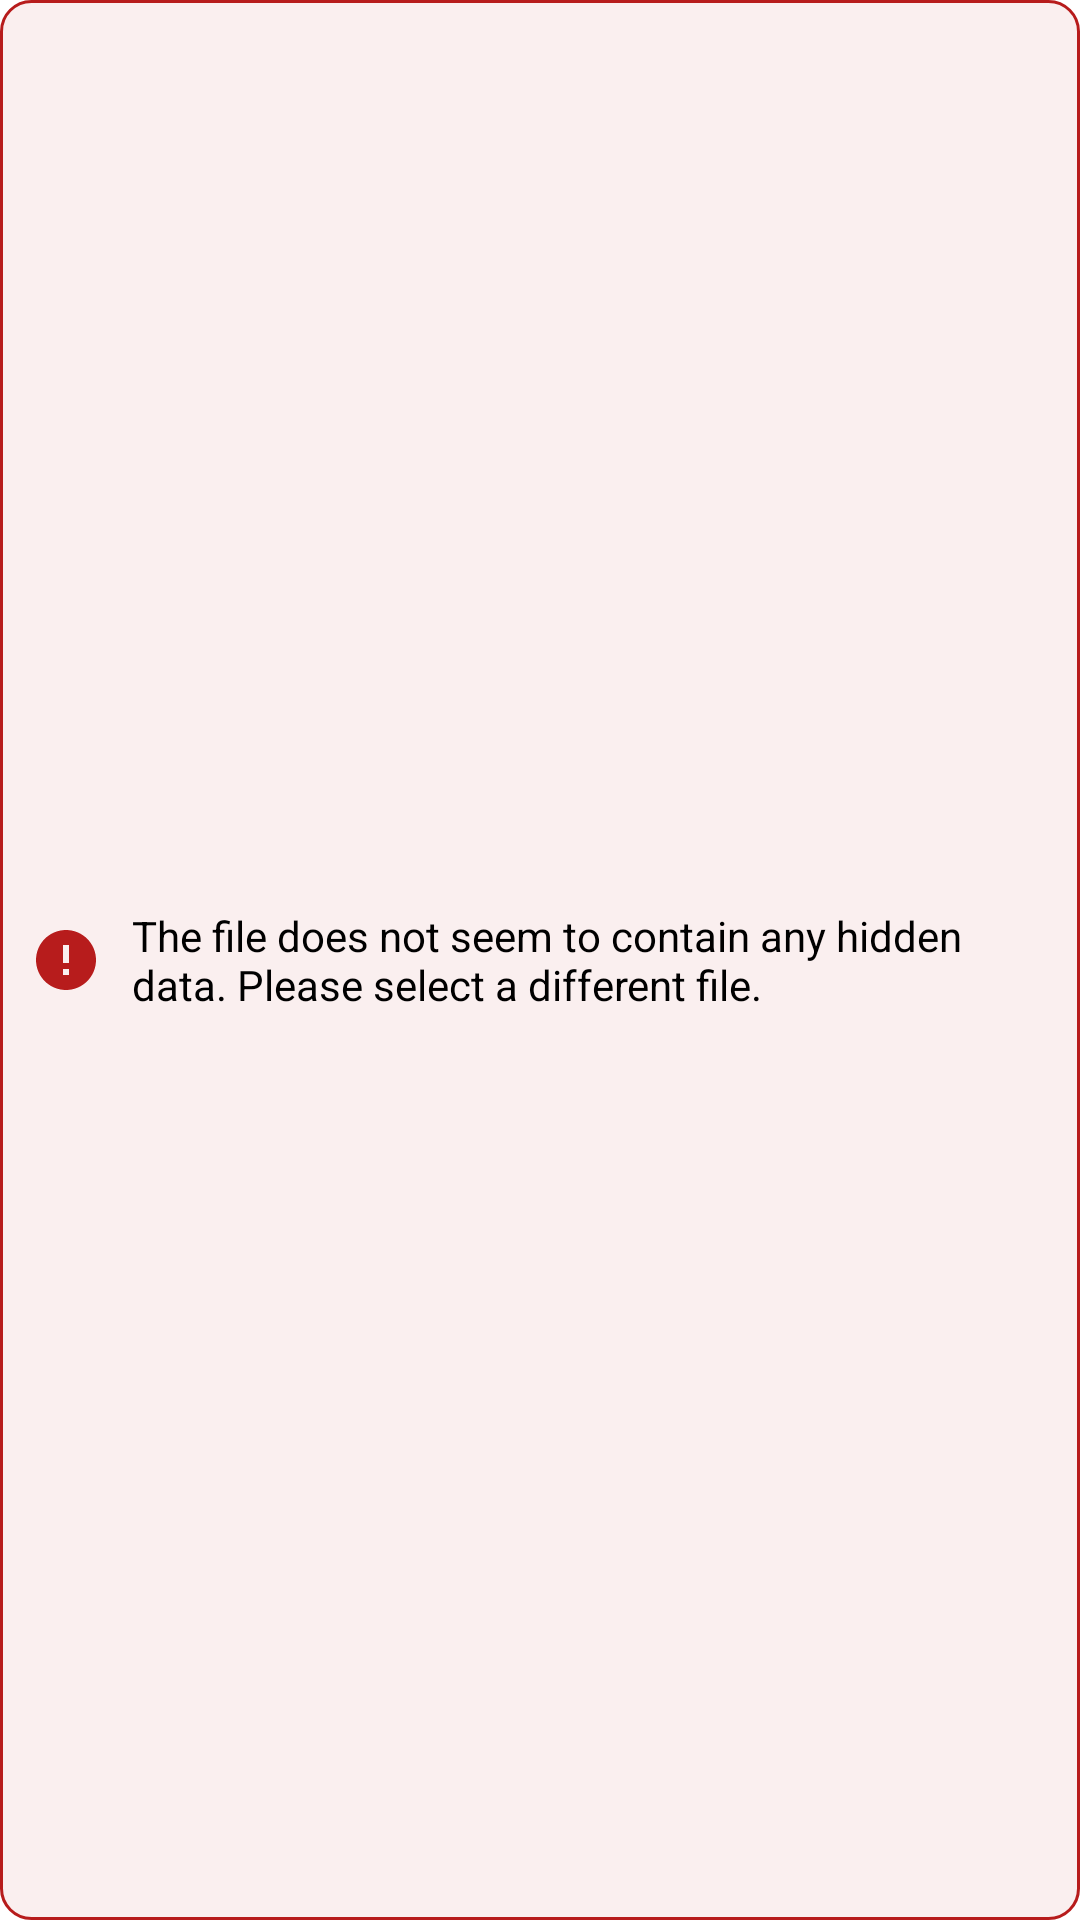

Icon click points for this 1080 x 1920 phone screenshot, format point (x, y):
error: point (66, 960)
